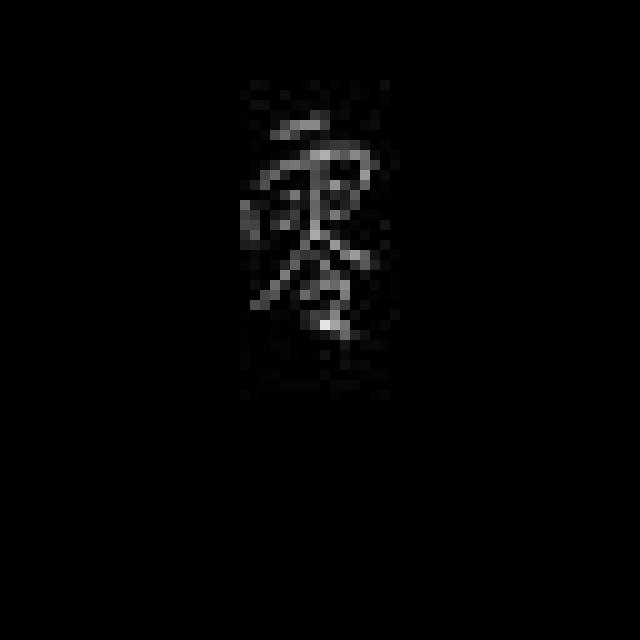0 -zero-: (224, 106, 384, 360)
